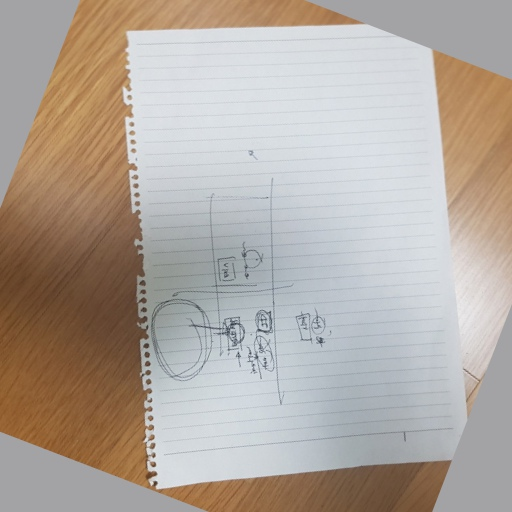Paper_2: (122, 21, 479, 494)
